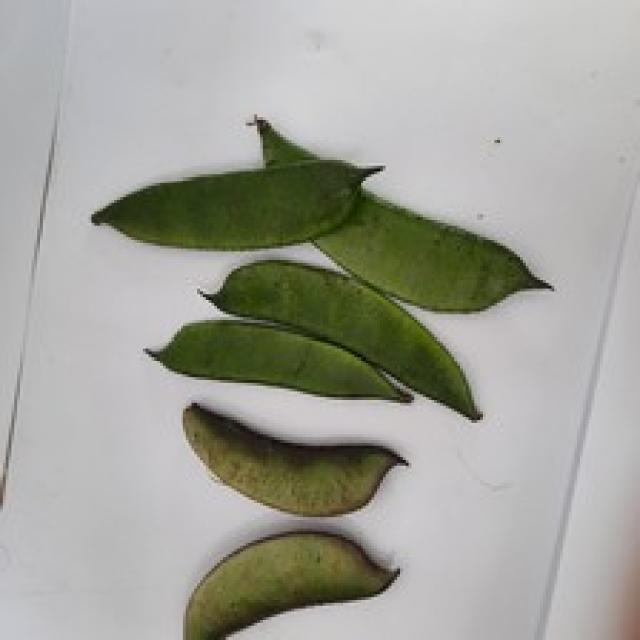Bean: (103, 143, 559, 404), (252, 108, 554, 306), (180, 400, 409, 517), (180, 529, 400, 637), (96, 164, 372, 246)
